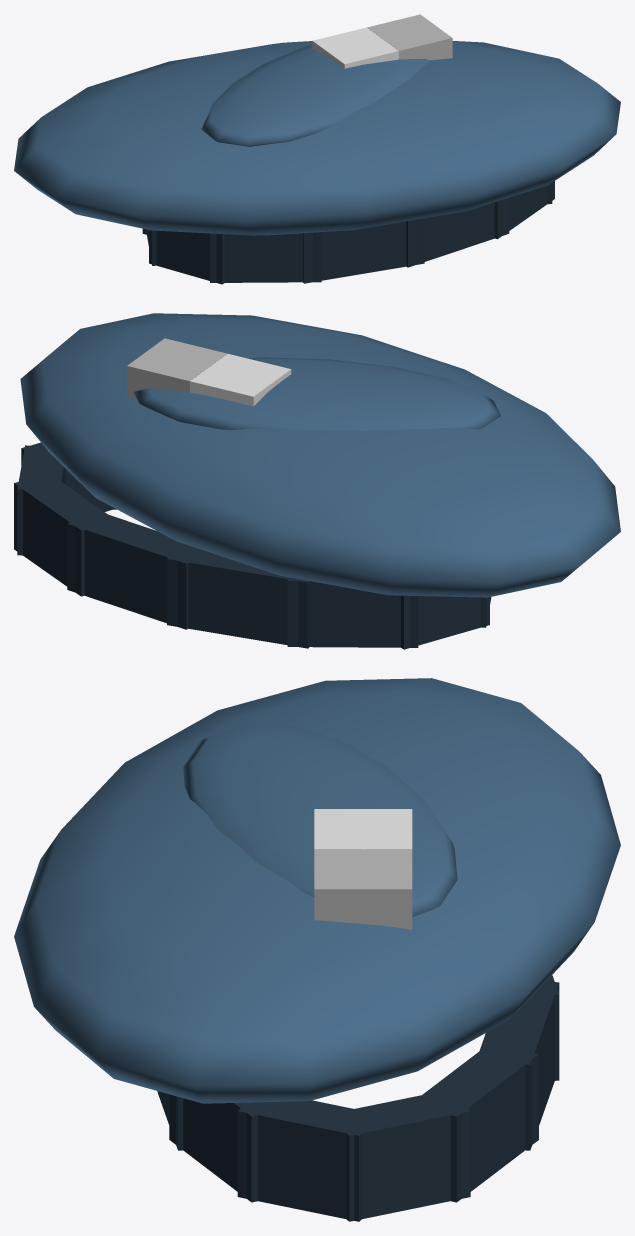
Rendered from CMU3DAU14UNISCBeretWorldCloud.glb.
3 views of the same model, one above another, from view 1: azimuth 30°, elevation 25°; view 2: azimuth 150°, elevation 25°; view 3: azimuth 270°, elevation 25° (orthographic). The views are drawn at different scales.
Parts seen in each view (by area): view 1: continuous slumped felt crown, subtle broad upper cloth fold, open underside felt band facet 08, original UNISC badge, open underside felt band facet 07, open underside felt band facet 09, open underside felt band facet 06, open underside felt band facet 10; view 2: continuous slumped felt crown, subtle broad upper cloth fold, open underside felt band facet 03, open underside felt band facet 02, original UNISC badge, open underside felt band facet 04, open underside felt band facet 01, open underside felt band facet 05, open underside felt band facet 00, open underside felt band facet 11; view 3: continuous slumped felt crown, subtle broad upper cloth fold, open underside felt band facet 00, original UNISC badge, open underside felt band facet 11, open underside felt band facet 01, open underside felt band facet 10, open underside felt band facet 02.
Boxes of the visible parts, x1,y1,x2,y2 form: continuous slumped felt crown: (14,41,620,235); subtle broad upper cloth fold: (201,45,428,146); open underside felt band facet 08: (303,218,424,283); original UNISC badge: (312,14,452,68); open underside felt band facet 07: (210,232,321,282); open underside felt band facet 09: (406,198,509,267); open underside felt band facet 06: (149,230,224,284); open underside felt band facet 10: (494,181,554,239); continuous slumped felt crown: (20,313,620,597); subtle broad upper cloth fold: (133,357,500,430); open underside felt band facet 03: (167,543,309,648); open underside felt band facet 02: (67,514,202,629); original UNISC badge: (127,338,291,406); open underside felt band facet 04: (287,578,418,647); open underside felt band facet 01: (14,479,117,596); open underside felt band facet 05: (401,595,489,649); open underside felt band facet 00: (17,445,65,555); open underside felt band facet 11: (21,442,113,511); continuous slumped felt crown: (14,678,620,1103); subtle broad upper cloth fold: (183,724,457,916); open underside felt band facet 00: (326,1090,470,1221); original UNISC badge: (314,809,412,929); open underside felt band facet 11: (237,1100,381,1221); open underside felt band facet 01: (410,1043,538,1202); open underside felt band facet 10: (169,1094,299,1202); open underside felt band facet 02: (476,982,559,1150).
Bounding box in the file's own units: 0.3019 × 0.091 × 0.1983.
Materials: 3 (1 with a texture image).
